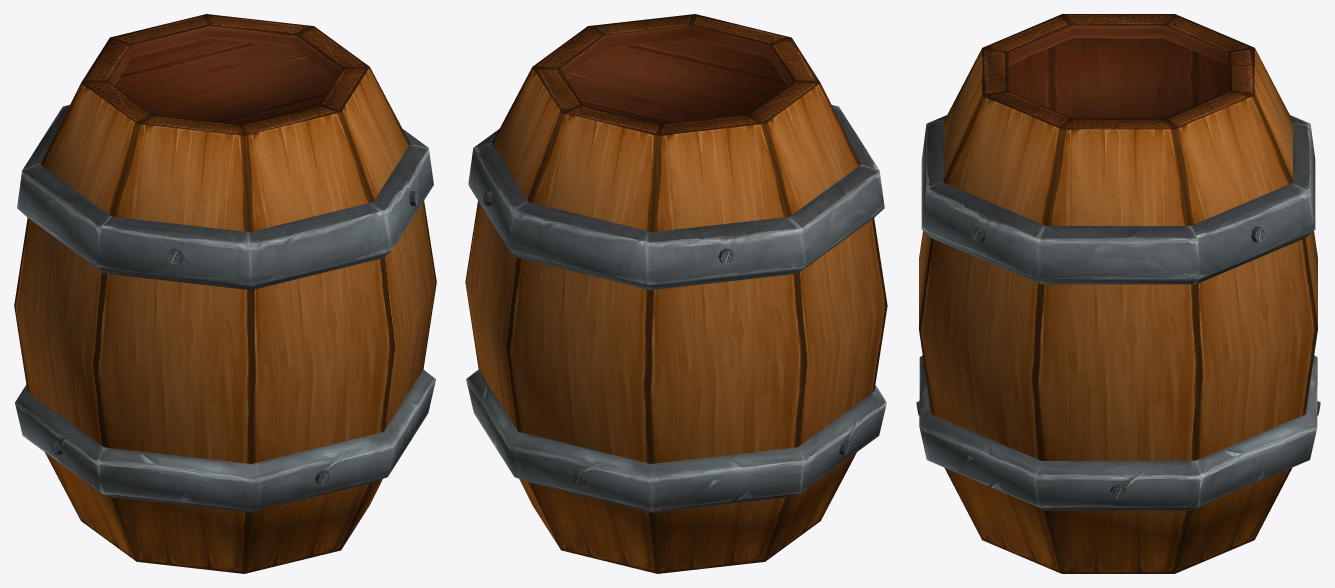
Rendered from Wooden Barrel.glb.
The picture shows the model from 3 angles, left to right: view 1: azimuth 30°, elevation 25°; view 2: azimuth 150°, elevation 25°; view 3: azimuth 270°, elevation 25°; orthographic projection.
Parts seen in each view (by area): view 1: wooden body, metal rings; view 2: wooden body, metal rings; view 3: wooden body, metal rings.
Boxes of the visible parts, left/top/right/bottom form: wooden body: left=14, top=14, right=436, bottom=573; metal rings: left=15, top=105, right=435, bottom=512; wooden body: left=465, top=14, right=887, bottom=573; metal rings: left=466, top=105, right=886, bottom=512; wooden body: left=919, top=14, right=1317, bottom=573; metal rings: left=919, top=115, right=1317, bottom=510.
Size of the model in its own units: 2.47 by 2.99 by 2.47.
Materials: 3 (3 with a texture image).
